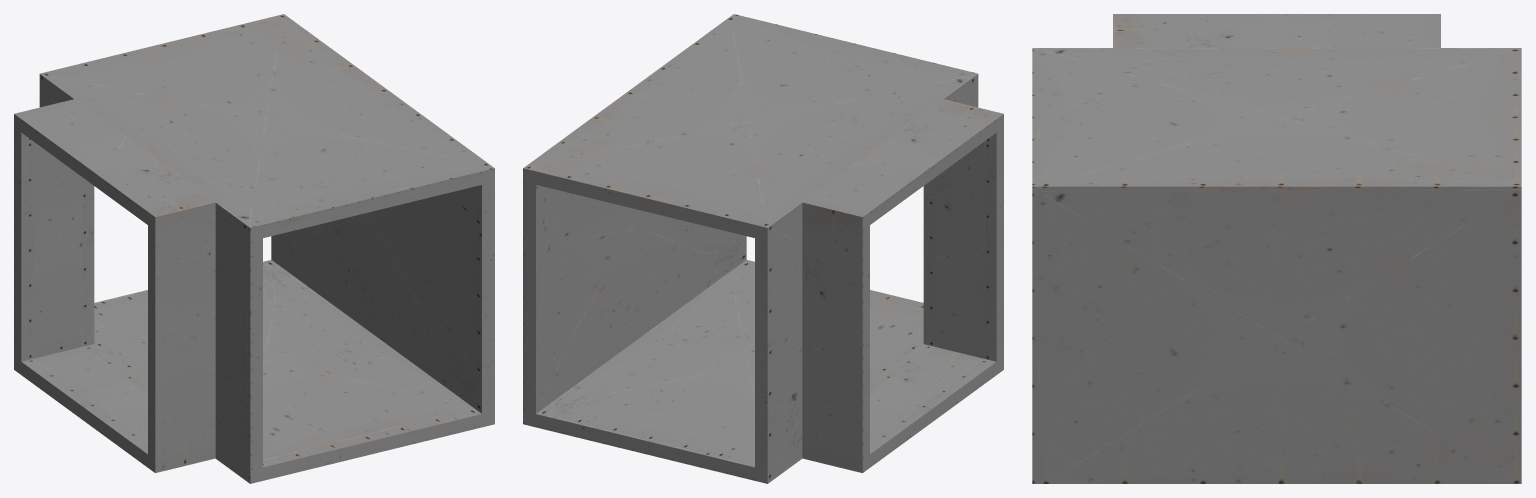
Rendered from Air_Duct_T_L.fbx.
3 renders of one model, left to right at view 1: azimuth 30°, elevation 25°; view 2: azimuth 150°, elevation 25°; view 3: azimuth 270°, elevation 25°, orthographic. The views are drawn at different scales.
Parts seen in each view (by area): view 1: Air_Duct_T_L; view 2: Air_Duct_T_L; view 3: Air_Duct_T_L.
Part boxes in pixels (x1,y1,x2,y2): Air_Duct_T_L: (14, 14, 494, 483); Air_Duct_T_L: (523, 14, 1003, 483); Air_Duct_T_L: (1032, 14, 1521, 483).
Bounding box in the file's own units: 167 × 134 × 200.
